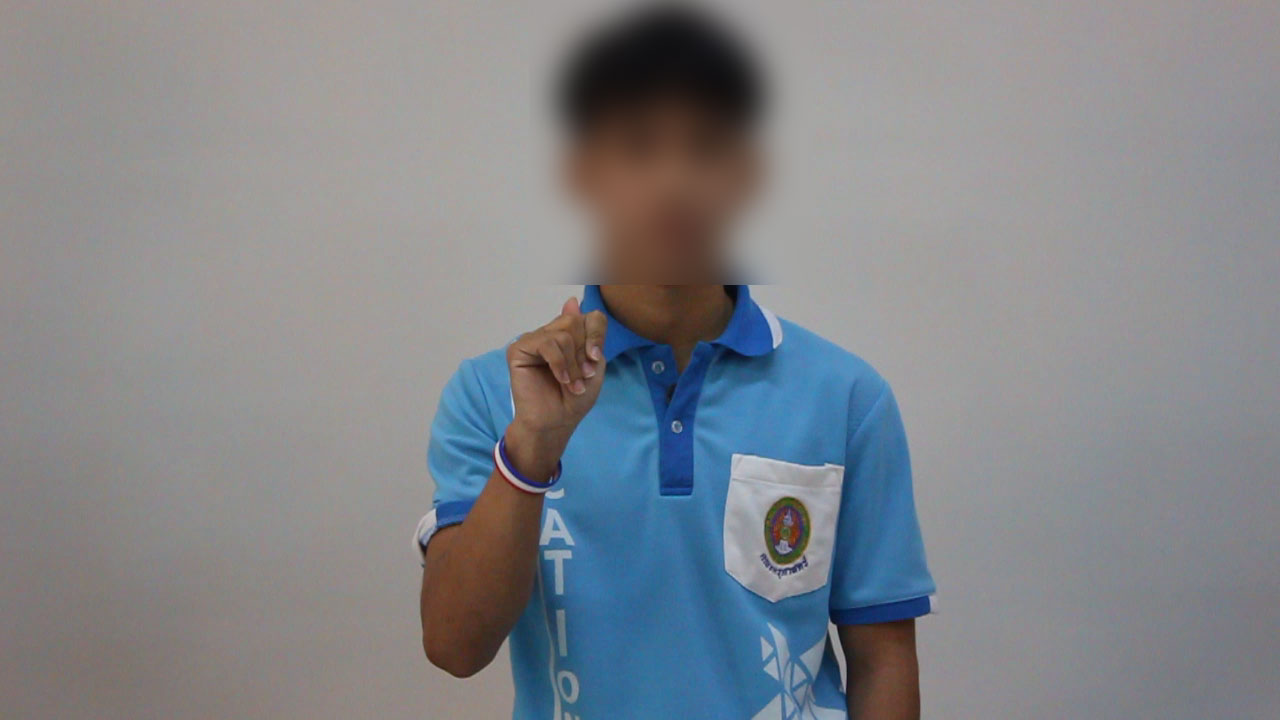tor: (502, 289, 626, 458)
